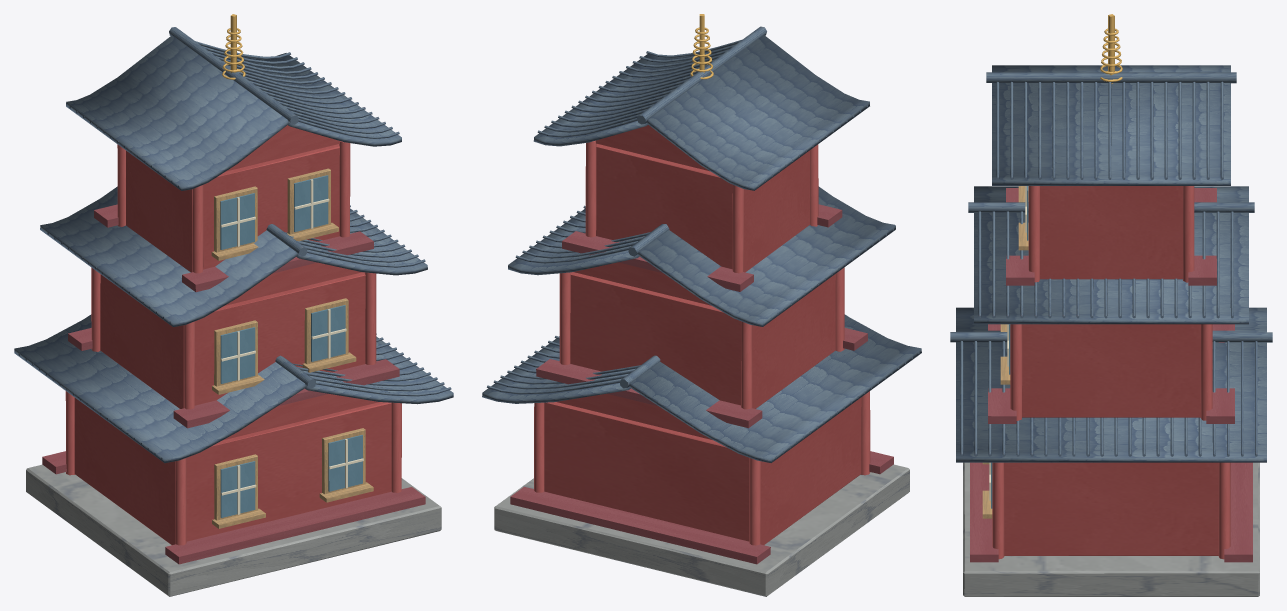
Rendered from pagoda.glb.
The picture shows the model from 3 angles, left to right: view 1: azimuth 30°, elevation 25°; view 2: azimuth 150°, elevation 25°; view 3: azimuth 270°, elevation 25°; orthographic projection. The views are drawn at different scales.
Parts seen in each view (by area): view 1: pagoda; view 2: pagoda; view 3: pagoda.
Part boxes in pixels (<box>): pagoda: <box>14,14,453,596</box>; pagoda: <box>482,14,921,596</box>; pagoda: <box>950,14,1272,596</box>.
Bounding box in the file's own units: 5.91 × 9.69 × 5.52.
3 materials, 3 textured.
